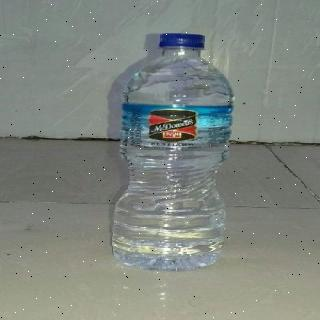Plastic-bottle: (107, 29, 243, 277)
